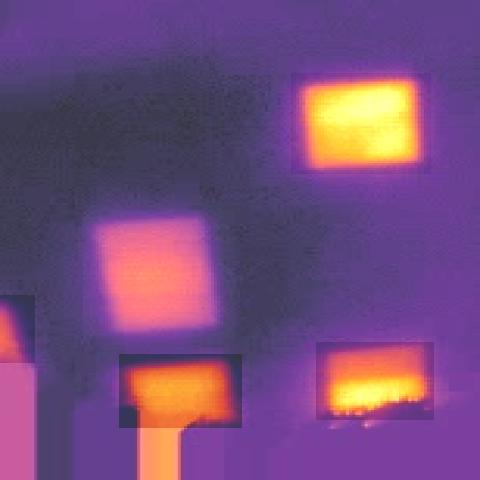fault: (84, 210, 236, 338), (291, 73, 431, 174), (316, 342, 434, 420), (119, 354, 242, 428), (0, 295, 35, 363)
